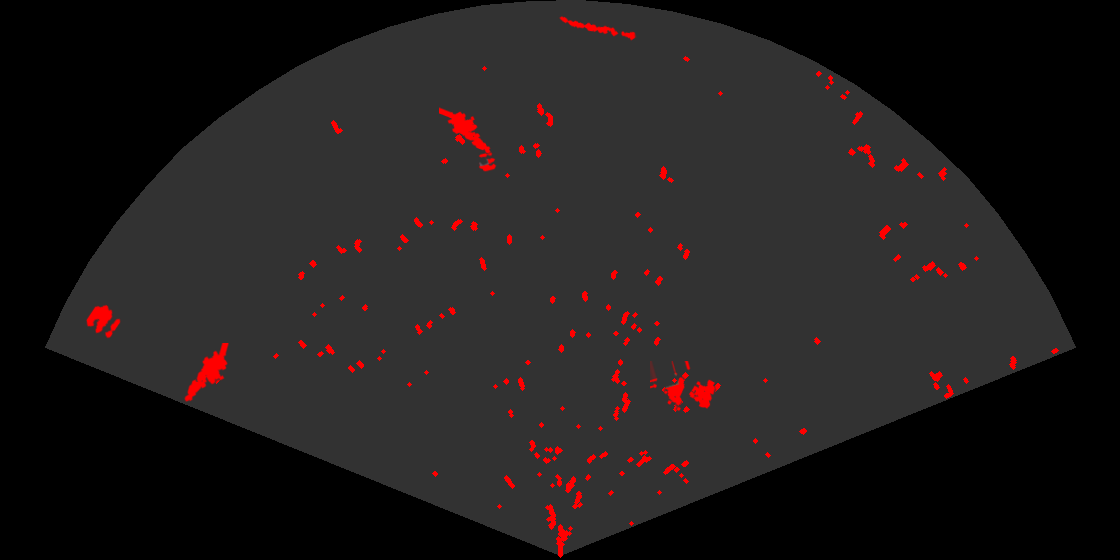ball: (85, 303, 122, 340), (477, 150, 498, 173)
cage: (650, 361, 717, 413)
chain: (558, 15, 637, 42)
frogman: (183, 343, 230, 404), (439, 106, 493, 155)
